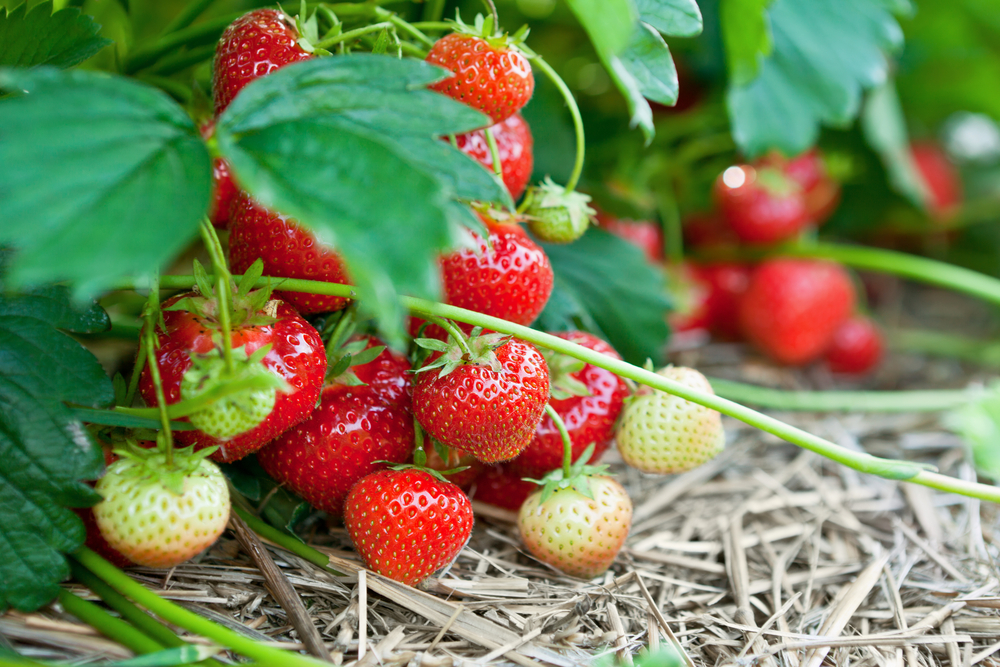ripe: (135, 286, 334, 456), (265, 332, 422, 516), (217, 177, 381, 317), (500, 325, 643, 484), (411, 324, 545, 468), (338, 454, 475, 592), (432, 199, 553, 354), (741, 251, 856, 370), (617, 365, 730, 483), (420, 32, 539, 136), (209, 32, 328, 113), (186, 105, 250, 235), (662, 251, 754, 340), (711, 159, 807, 242), (448, 128, 544, 197), (599, 203, 668, 269), (826, 314, 885, 379)
unripe: (91, 446, 239, 575), (517, 467, 637, 583), (184, 357, 282, 444), (527, 183, 596, 243)
